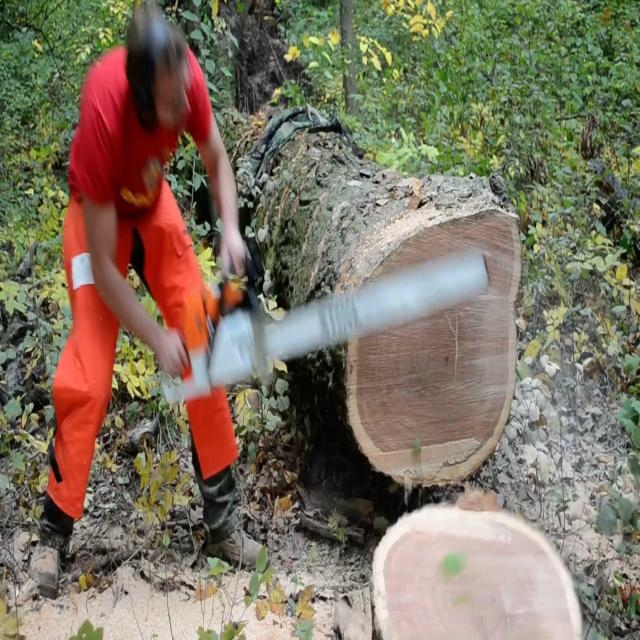Chainsaw: (146, 243, 512, 403)
